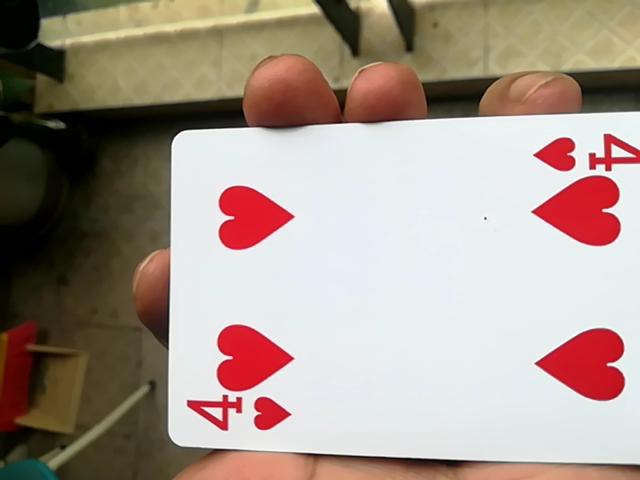hx 4: (160, 106, 639, 474)
